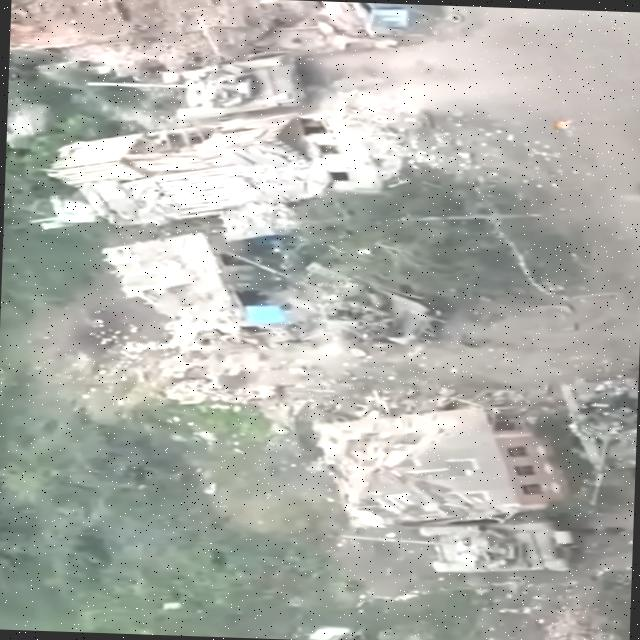MBT: (218, 246, 451, 348), (79, 47, 317, 125), (328, 512, 588, 579)
